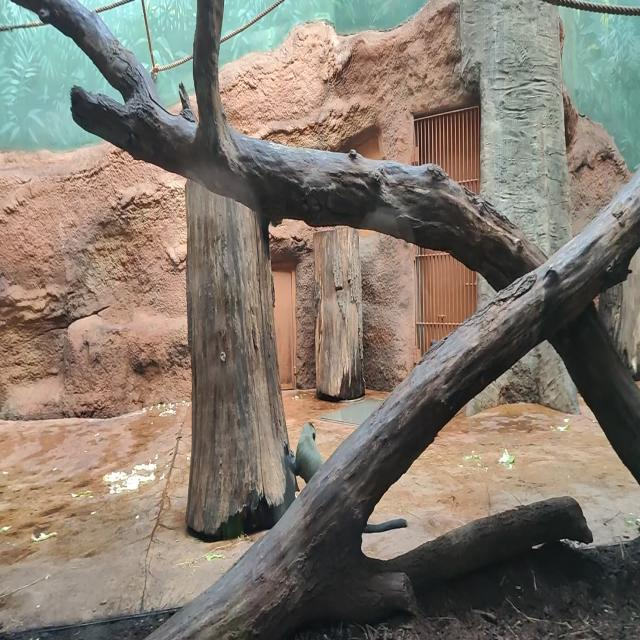monkey: (284, 422, 324, 484)
